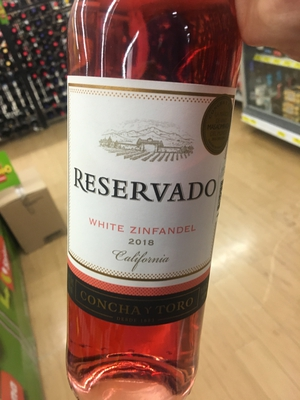reservado white zinfandel: (53, 12, 236, 397)
